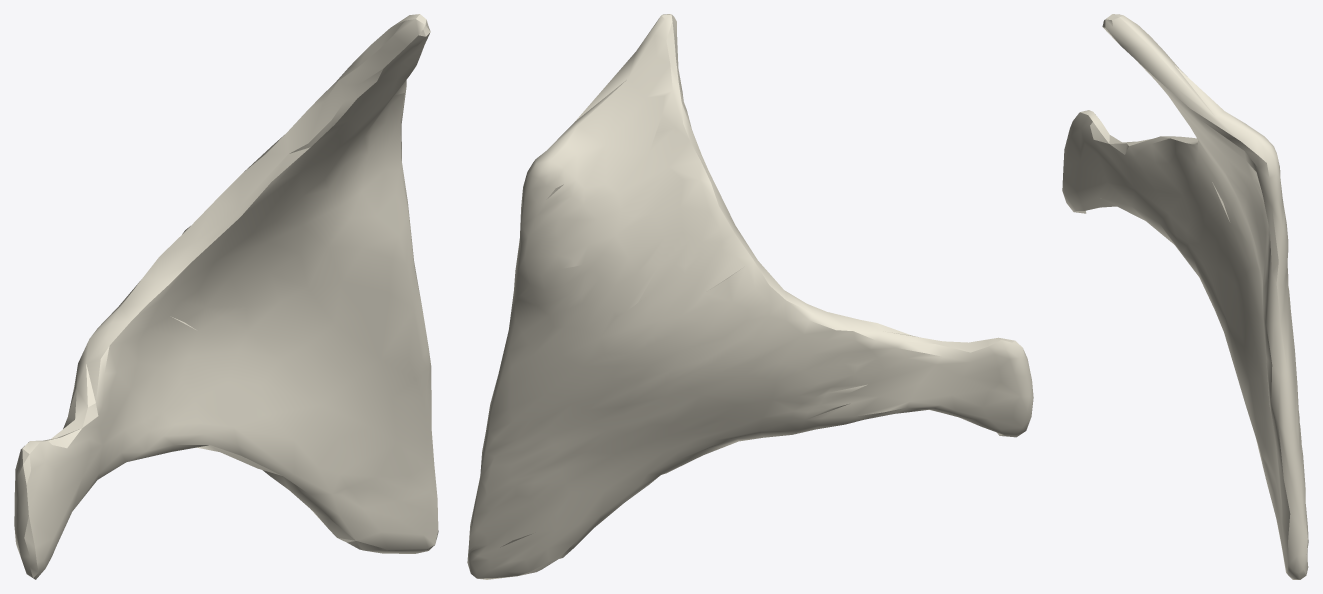
File: fma312029_mm1361.glb
3 renders of one model, left to right at view 1: azimuth 30°, elevation 25°; view 2: azimuth 150°, elevation 25°; view 3: azimuth 270°, elevation 25°, orthographic. The views are drawn at different scales.
Parts seen in each view (by area): view 1: FMA312029_MM1361; view 2: FMA312029_MM1361; view 3: FMA312029_MM1361.
Boxes of the visible parts, x1,y1,x2,y2 form: FMA312029_MM1361: (14, 14, 438, 579); FMA312029_MM1361: (467, 14, 1033, 579); FMA312029_MM1361: (1062, 14, 1308, 579).
Bounding box in the file's own units: 0.0432 × 0.0475 × 0.0205.
